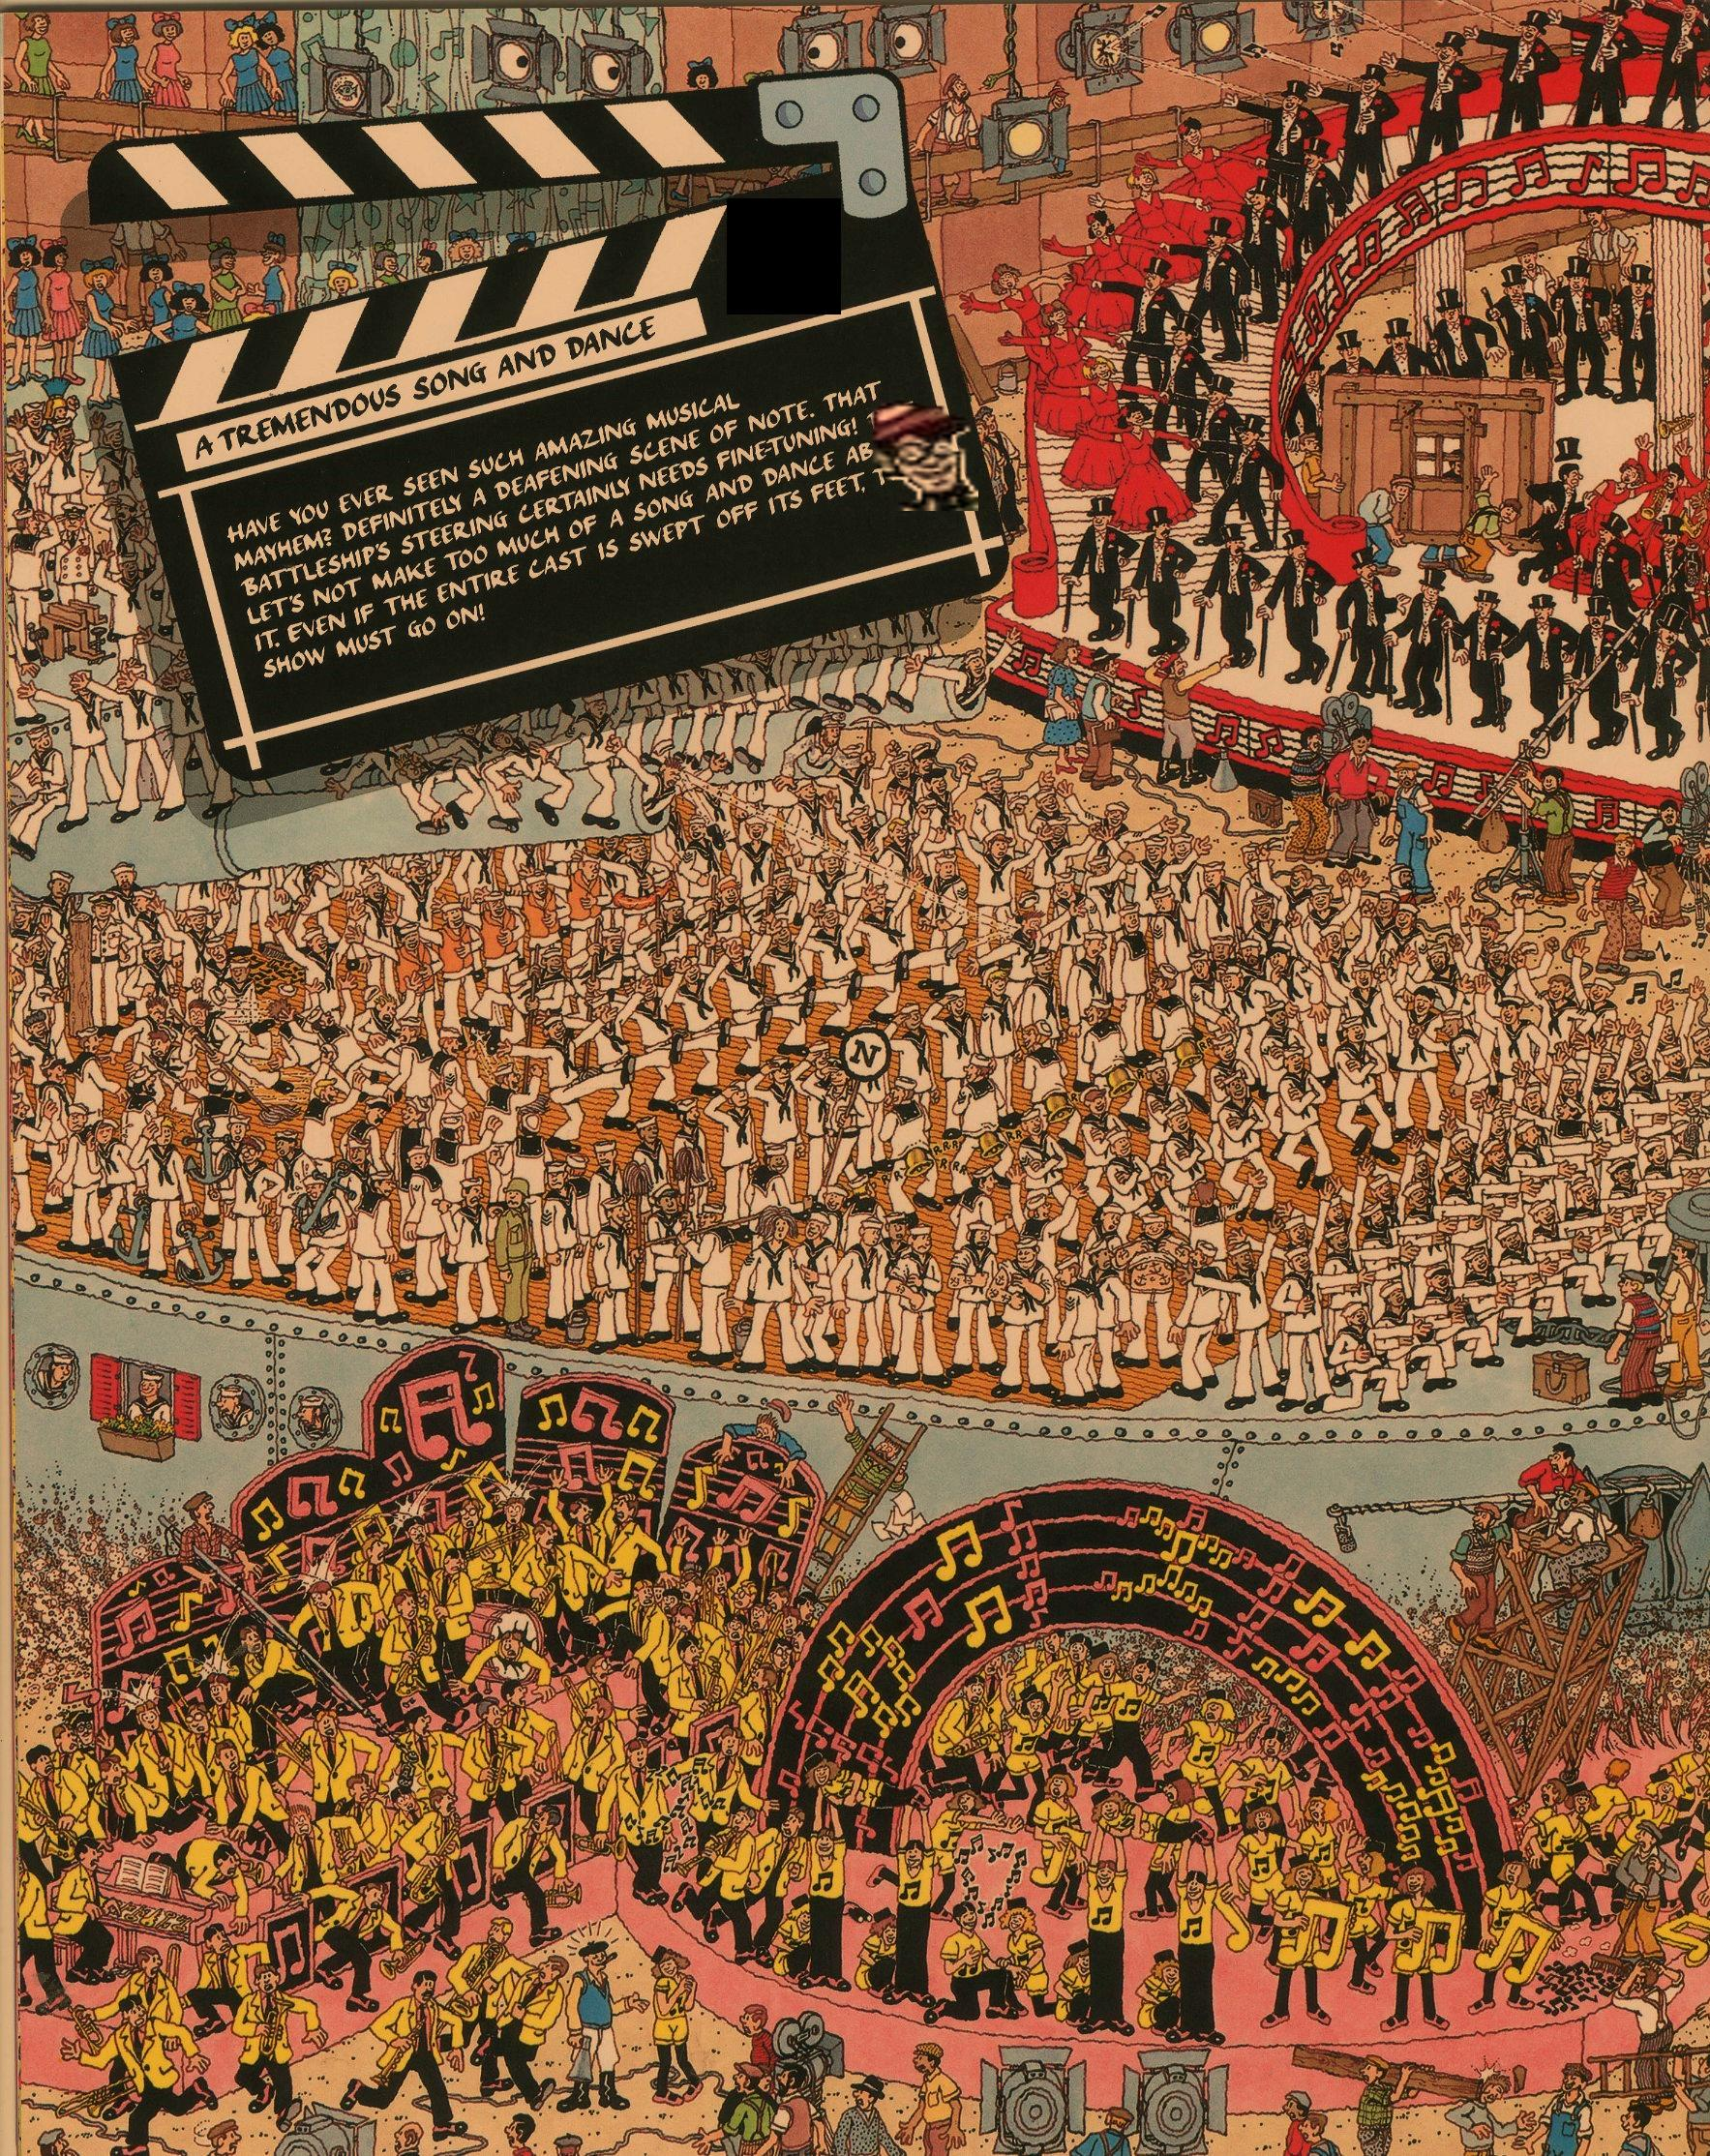waldos: (865, 395, 978, 511)
